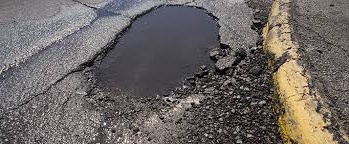pothole: (79, 0, 237, 108)
